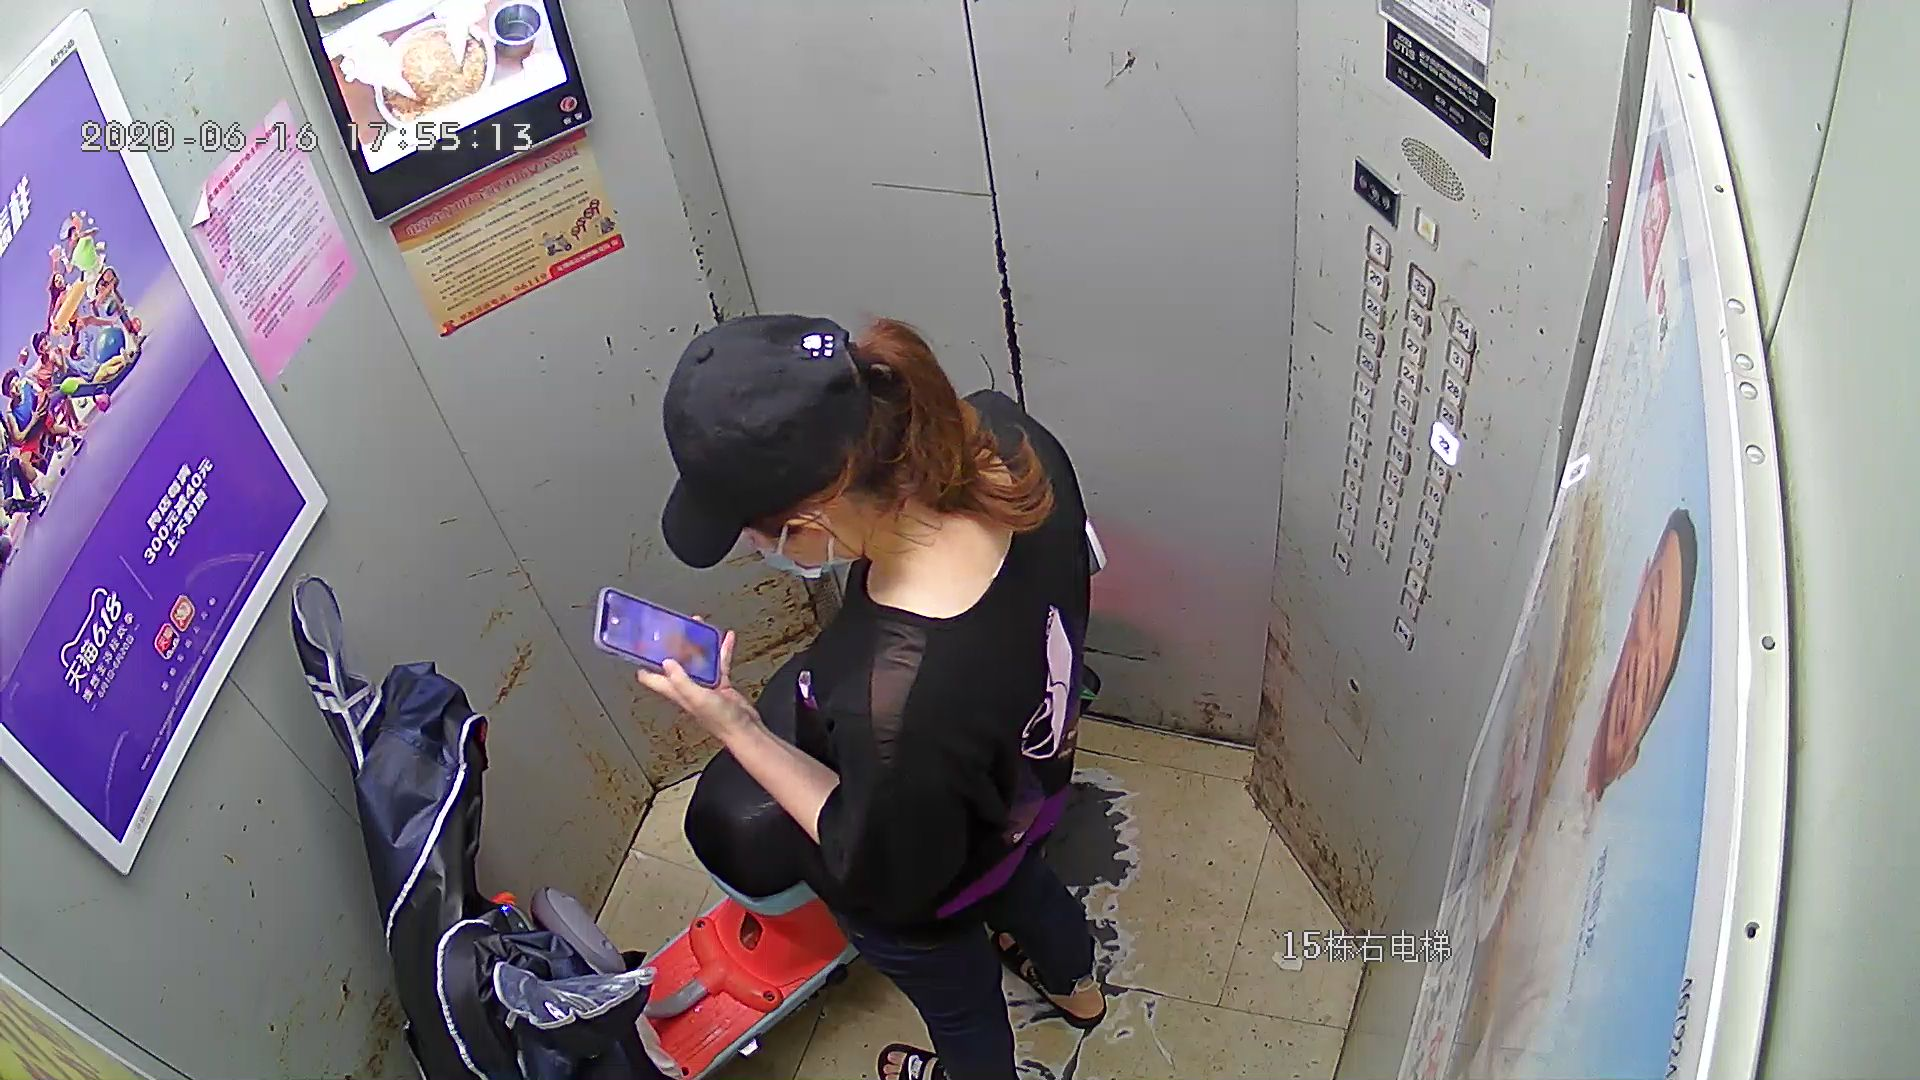Electric-bicycle: (285, 571, 837, 1080)
